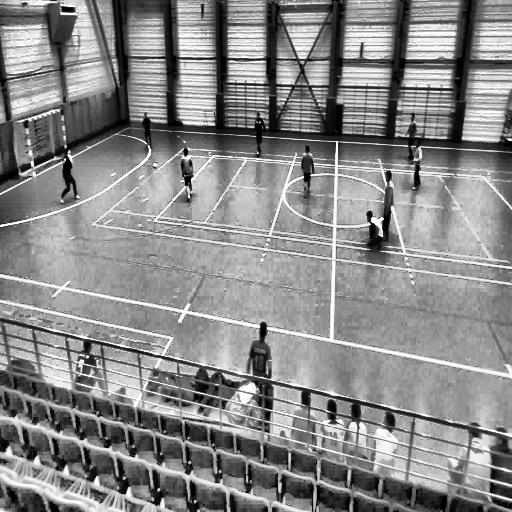ball: (152, 160, 158, 171)
player: (60, 144, 81, 203), (381, 169, 394, 243), (363, 209, 384, 253), (180, 146, 194, 202), (301, 142, 314, 198), (411, 137, 423, 195), (406, 111, 418, 161), (253, 112, 265, 158), (141, 109, 153, 155)
